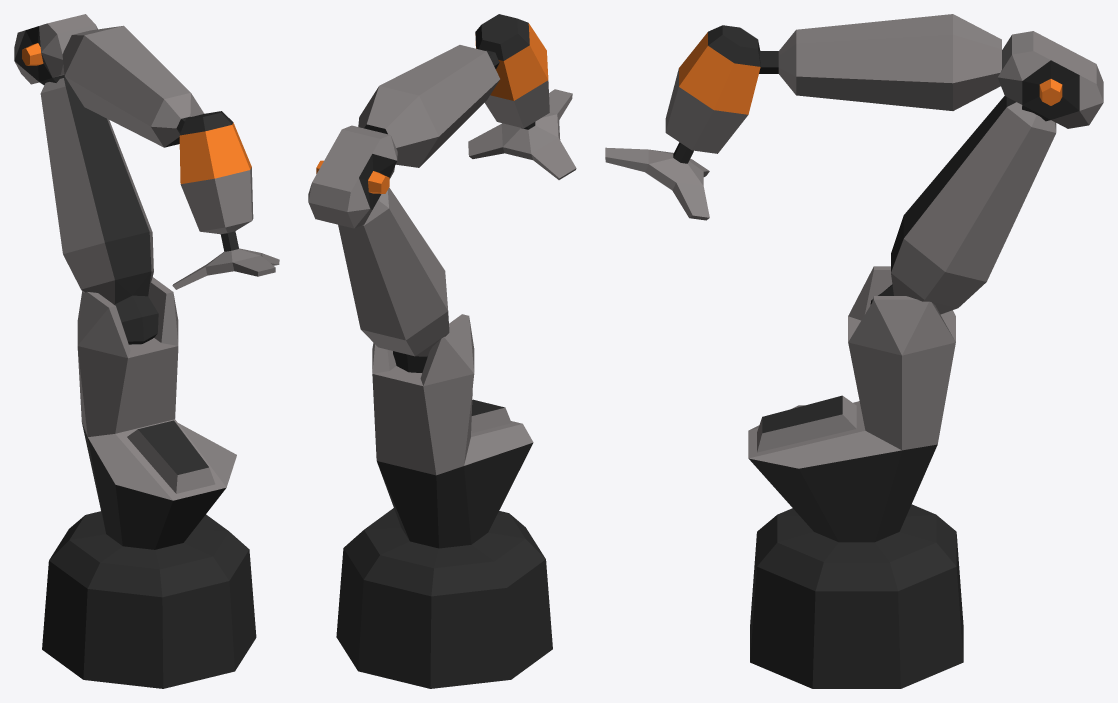
The model's file is scifi_scifi-robotic-arm.fbx.
3 renders of one model, left to right at view 1: azimuth 30°, elevation 25°; view 2: azimuth 150°, elevation 25°; view 3: azimuth 270°, elevation 25°, orthographic. The views are drawn at different scales.
Parts seen in each view (by area): view 1: scifi_robotic_arm_base, scifi_robotic_arm_first, scifi_robotic_arm_third, scifi_robotic_arm_hand, scifi_robotic_arm_second; view 2: scifi_robotic_arm_base, scifi_robotic_arm_first, scifi_robotic_arm_hand, scifi_robotic_arm_third, scifi_robotic_arm_second; view 3: scifi_robotic_arm_base, scifi_robotic_arm_first, scifi_robotic_arm_third, scifi_robotic_arm_hand, scifi_robotic_arm_second.
Boxes of the visible parts, x1,y1,x2,y2 form: scifi_robotic_arm_base: (42,277,256,688); scifi_robotic_arm_first: (40,77,158,344); scifi_robotic_arm_third: (62,25,204,147); scifi_robotic_arm_hand: (172,111,279,289); scifi_robotic_arm_second: (14,14,97,85); scifi_robotic_arm_base: (336,314,552,688); scifi_robotic_arm_first: (338,187,449,372); scifi_robotic_arm_hand: (468,14,576,179); scifi_robotic_arm_third: (358,45,500,167); scifi_robotic_arm_second: (308,125,397,228); scifi_robotic_arm_base: (748,266,963,688); scifi_robotic_arm_first: (870,96,1056,314); scifi_robotic_arm_third: (759,14,1001,110); scifi_robotic_arm_hand: (605,25,760,220); scifi_robotic_arm_second: (997,31,1103,128).
Bounding box in the file's own units: 61.09 × 196 × 143.
